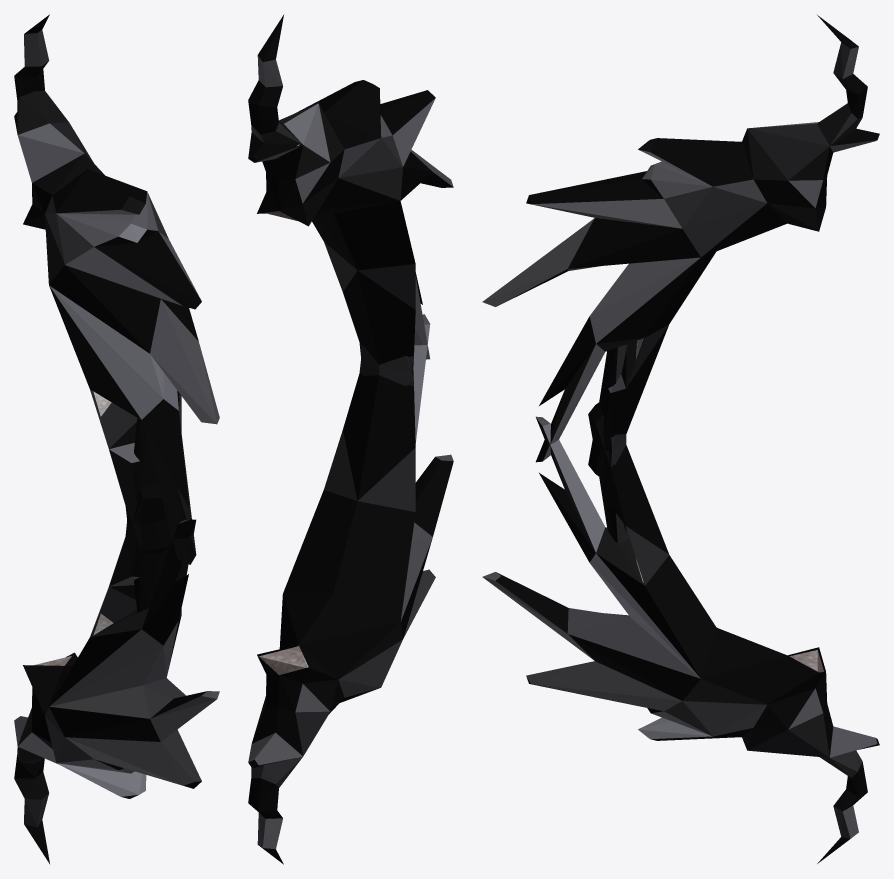
3 renders of one model, left to right at view 1: azimuth 30°, elevation 25°; view 2: azimuth 150°, elevation 25°; view 3: azimuth 270°, elevation 25°, orthographic.
Visible parts, largest first — view 1: B_0083_3a_0, B_0083_3a_1; view 2: B_0083_3a_0, B_0083_3a_1; view 3: B_0083_3a_0.
Part boxes in pixels (left/top/right/bottom): B_0083_3a_0: left=14, top=14, right=219, bottom=863; B_0083_3a_1: left=34, top=391, right=179, bottom=665; B_0083_3a_0: left=248, top=15, right=453, bottom=864; B_0083_3a_1: left=259, top=144, right=308, bottom=675; B_0083_3a_0: left=482, top=15, right=879, bottom=863.
Bounding box in the file's own units: 2.17 × 14.98 × 6.35.
Materials: 2 (2 with a texture image).
